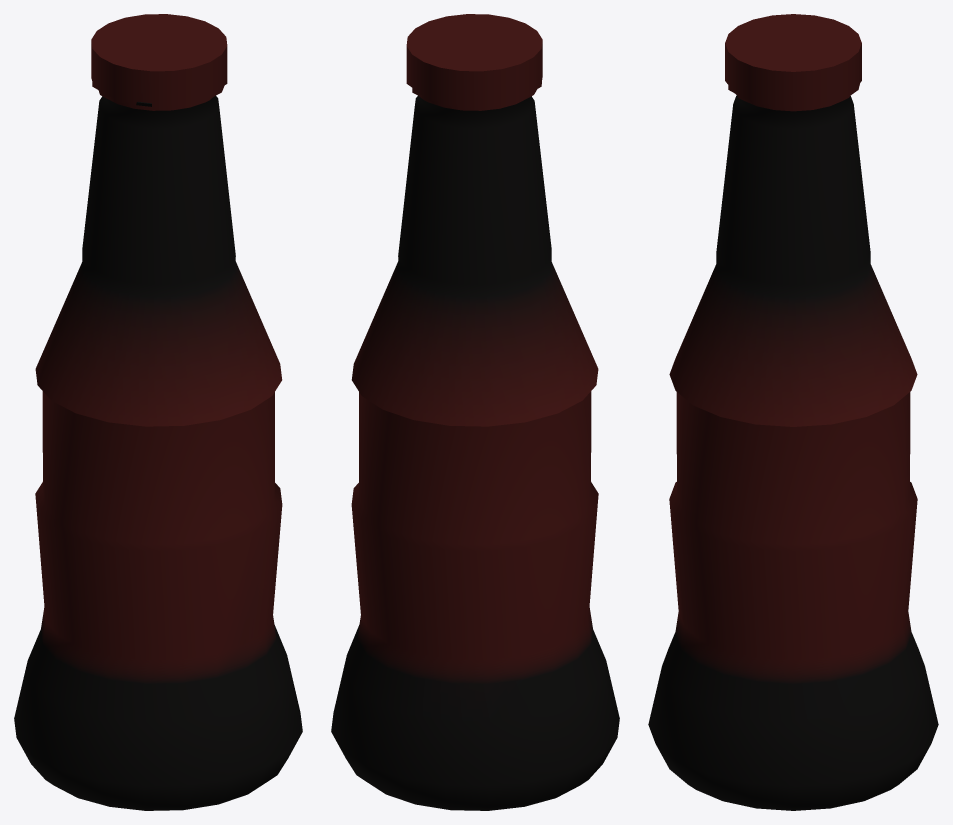
File: Bepsi.fbx
3 renders of one model, left to right at view 1: azimuth 30°, elevation 25°; view 2: azimuth 150°, elevation 25°; view 3: azimuth 270°, elevation 25°, orthographic.
Parts seen in each view (by area): view 1: glass1; view 2: glass1; view 3: glass1.
Boxes of the visible parts, x1,y1,x2,y2 form: glass1: (14,14,302,810); glass1: (331,14,619,810); glass1: (648,14,938,810).
Size of the model in its own units: 0.7711 by 2.1 by 0.7711.
